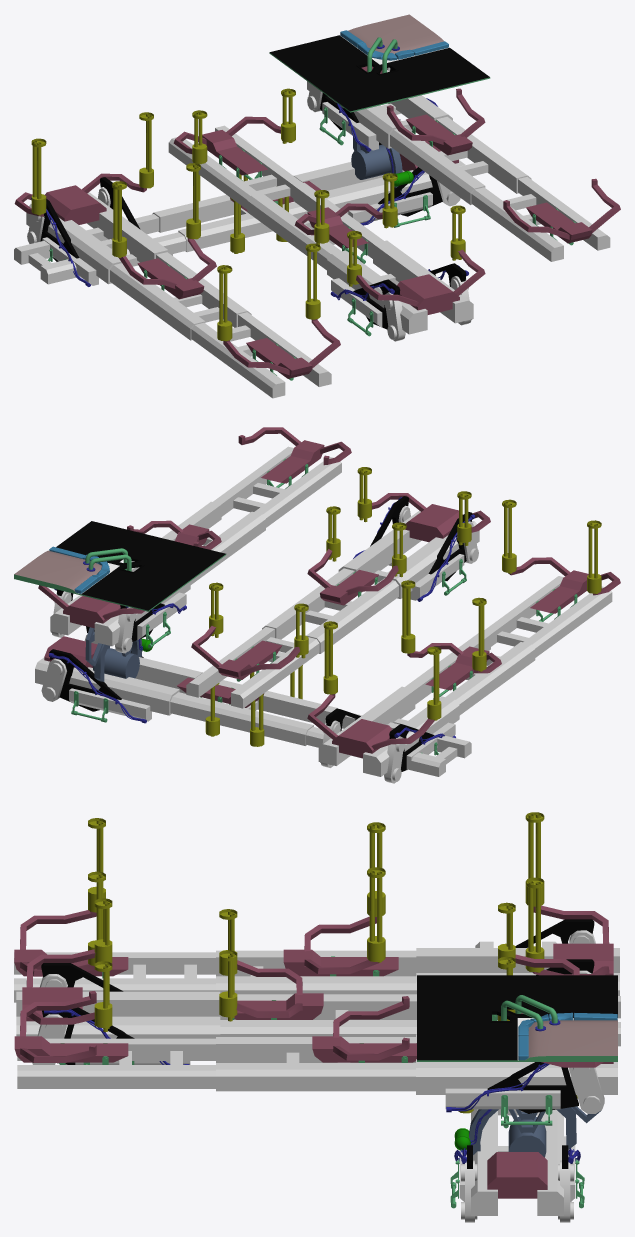
File: mech corn out lod0.FBX
3 renders of one model, top to bottom at view 1: azimuth 30°, elevation 25°; view 2: azimuth 150°, elevation 25°; view 3: azimuth 270°, elevation 25°, orthographic. The views are drawn at different scales.
Visible parts, largest first — view 1: Group009, Cylinder005, Cylinder013, Cylinder011, Cylinder019, Cylinder017, Cylinder015; view 2: Group009, Cylinder005, Cylinder013, Cylinder011, Cylinder015, Cylinder017, Cylinder019; view 3: Group009, Cylinder013, Cylinder011, Cylinder005, Cylinder015, Cylinder017, Cylinder019.
Part boxes in pixels (box(x1,y1,x2,y2)): Group009: box(14, 14, 620, 398); Cylinder005: box(217, 243, 320, 324); Cylinder013: box(31, 112, 153, 215); Cylinder011: box(112, 163, 200, 257); Cylinder019: box(192, 88, 295, 164); Cylinder017: box(314, 173, 397, 244); Cylinder015: box(347, 205, 465, 286); Group009: box(14, 427, 620, 783); Cylinder005: box(502, 499, 601, 593); Cylinder013: box(323, 621, 441, 720); Cylinder011: box(401, 580, 486, 671); Cylinder015: box(357, 467, 471, 545); Cylinder017: box(326, 506, 406, 577); Cylinder019: box(209, 582, 308, 658); Group009: box(14, 885, 620, 1222); Cylinder013: box(525, 812, 544, 972); Cylinder011: box(367, 822, 385, 962); Cylinder005: box(88, 818, 105, 940); Cylinder015: box(94, 898, 112, 1032); Cylinder017: box(219, 909, 237, 1021); Cylinder019: box(498, 902, 515, 975).
Size of the model in its own units: 8.97 by 3.2 by 9.06.
